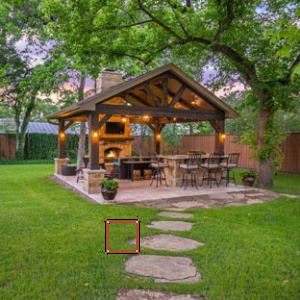square: (102, 217, 143, 255)
